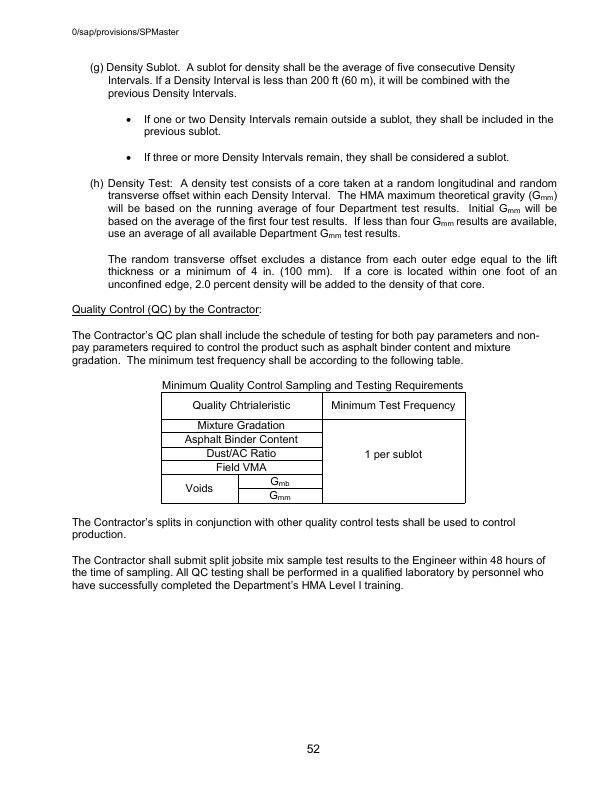table: (158, 390, 470, 507)
text: (106, 177, 563, 241), (69, 324, 545, 373), (70, 553, 556, 598), (105, 251, 563, 294), (89, 62, 522, 99), (68, 515, 521, 544), (139, 112, 558, 140), (141, 144, 510, 166), (69, 300, 266, 320), (159, 378, 467, 390)
